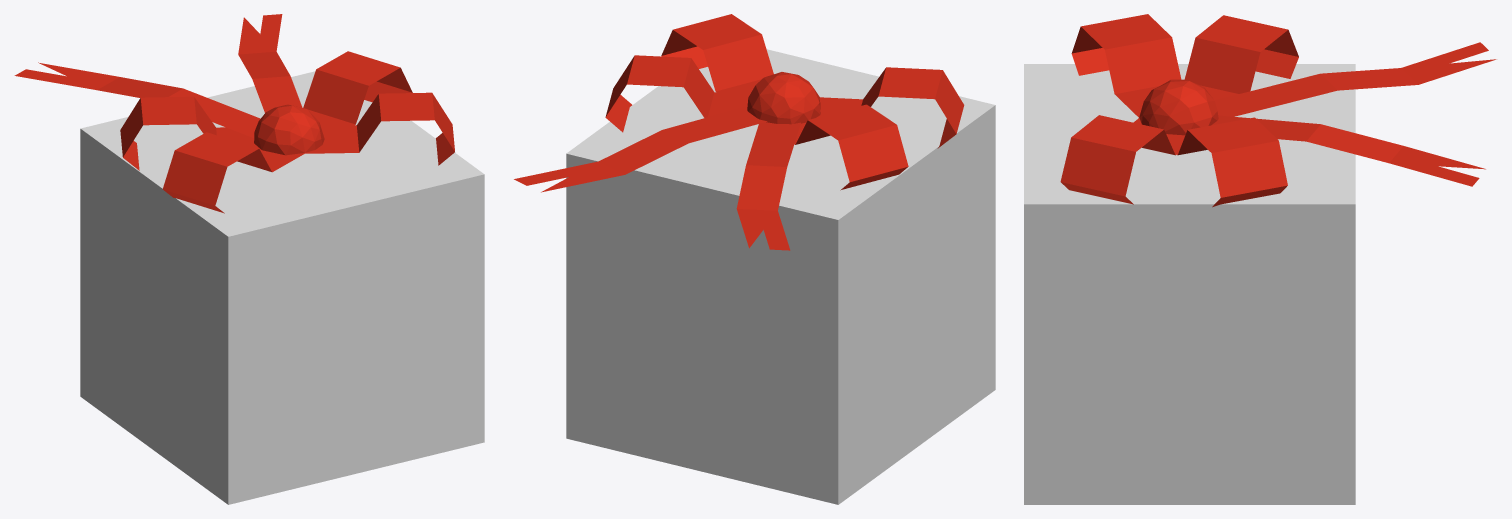
File: present.fbx
3 renders of one model, left to right at view 1: azimuth 30°, elevation 25°; view 2: azimuth 150°, elevation 25°; view 3: azimuth 270°, elevation 25°, orthographic. The views are drawn at different scales.
Parts seen in each view (by area): view 1: wreathLace; view 2: wreathLace; view 3: wreathLace.
Boxes of the visible parts, bbox=[...] form: wreathLace: bbox=[14, 14, 484, 504]; wreathLace: bbox=[514, 14, 995, 504]; wreathLace: bbox=[1024, 14, 1496, 504].
Bounding box in the file's own units: 224 × 235 × 286.
3 materials, 1 textured.
